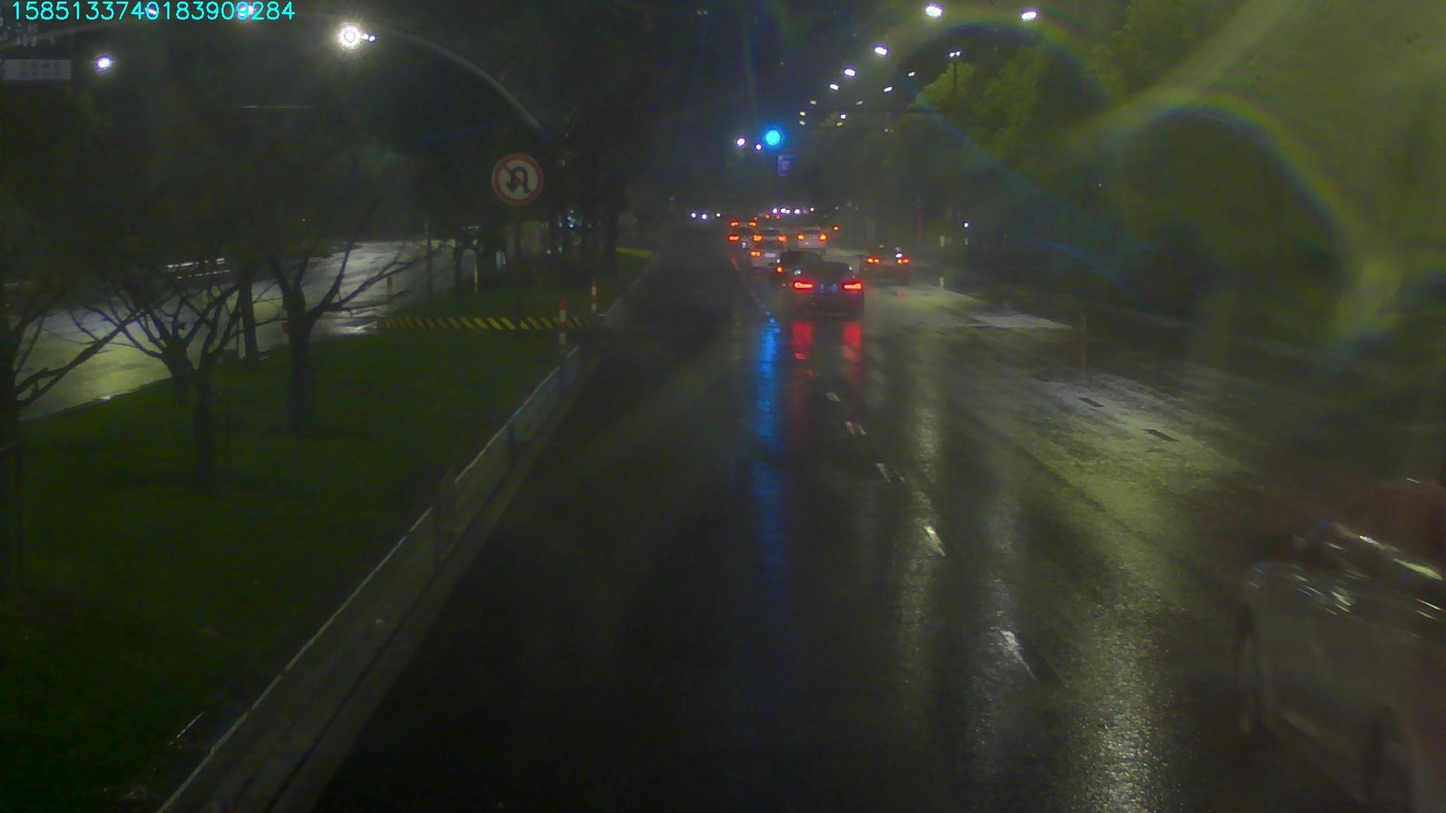green: (764, 125, 785, 151)
